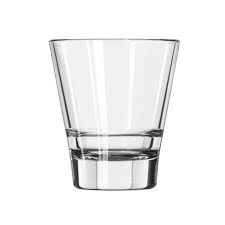glass: (46, 34, 185, 196)
